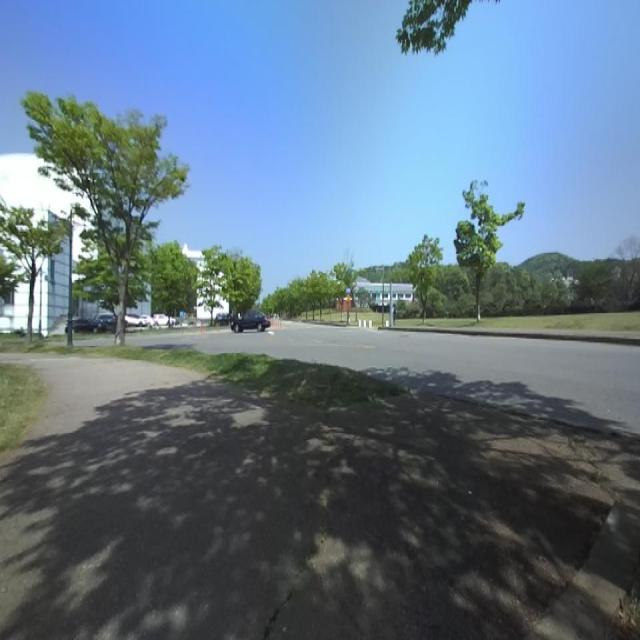sidewalk: (0, 356, 640, 639)
